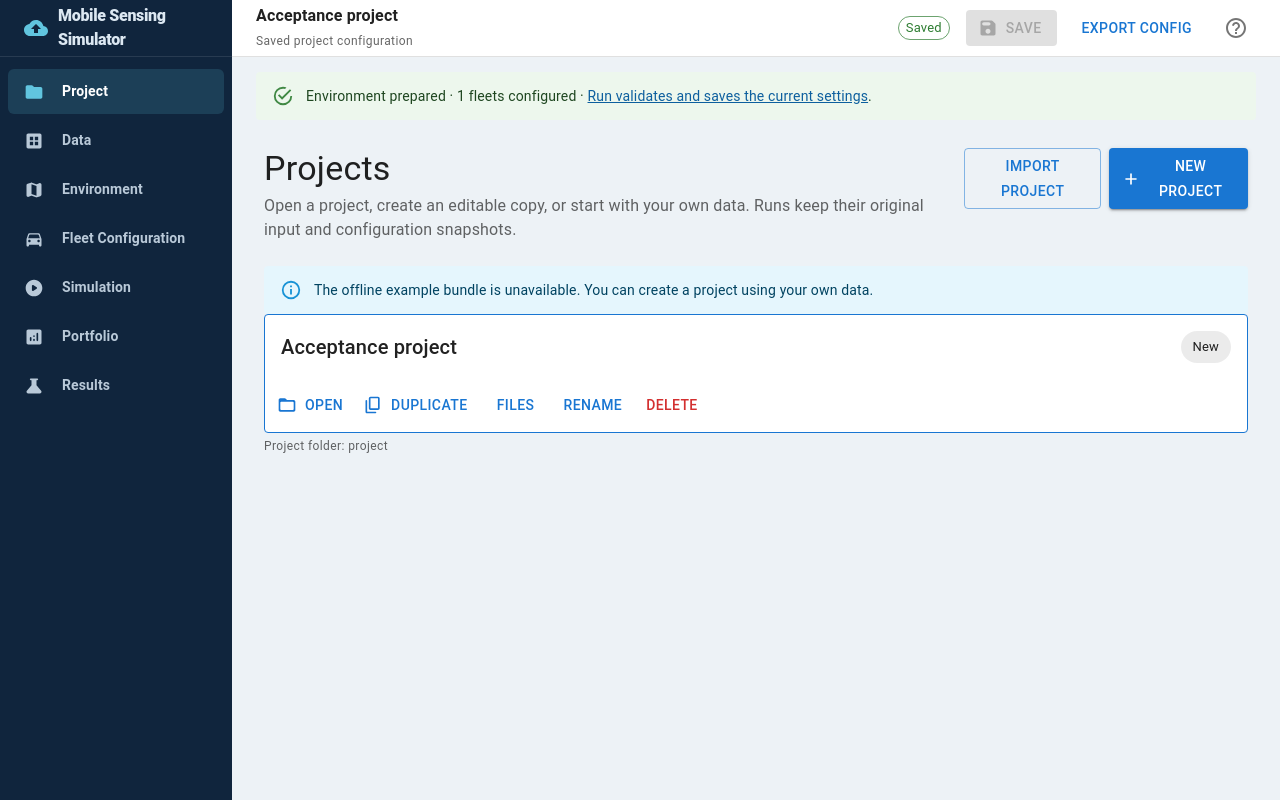
Test: MR05 public workbench › labels every help step with its navigation name
The image size is (1280, 800).
Step 1. Click the button named "Help" → (1236, 28), box x1=1216 y1=8 x2=1256 y2=48
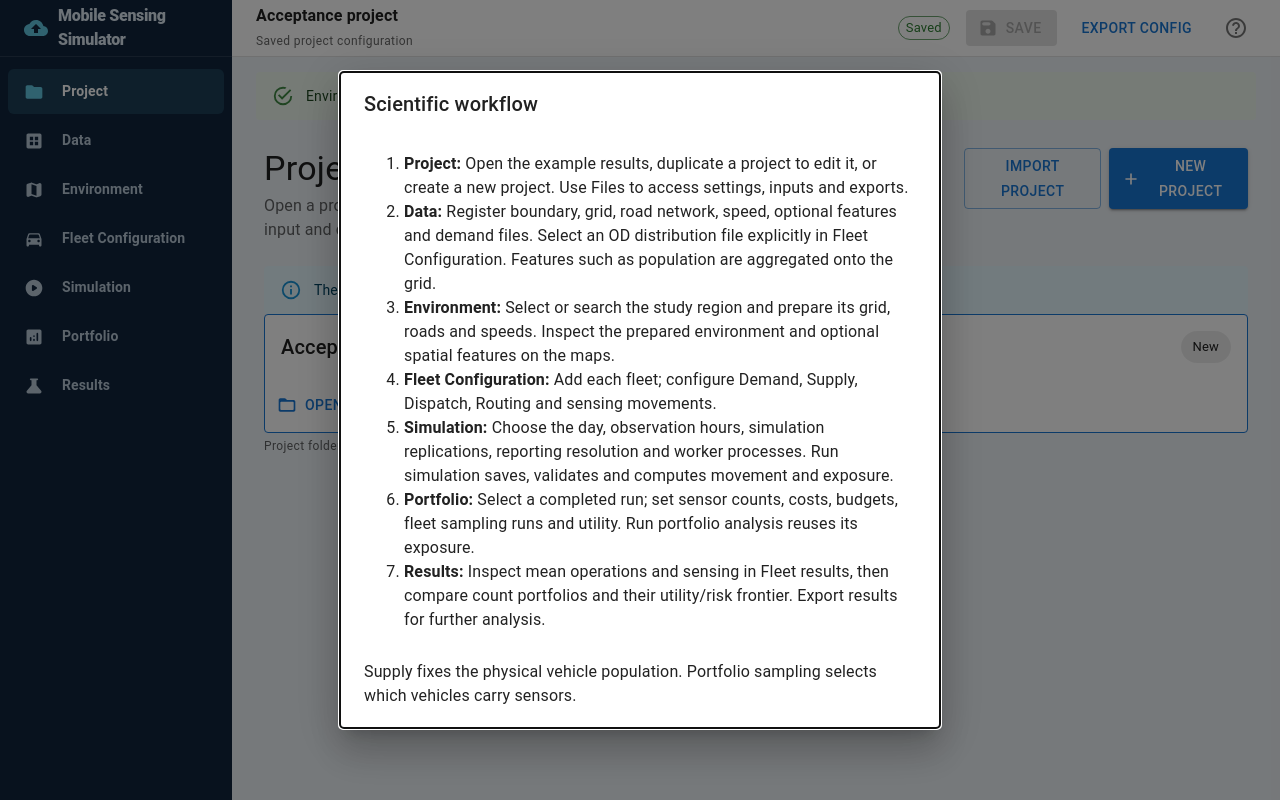
Result: the number of list items is 7
Result: the list item "Fleet results" is shown at x1=404 y1=562 x2=898 y2=629
